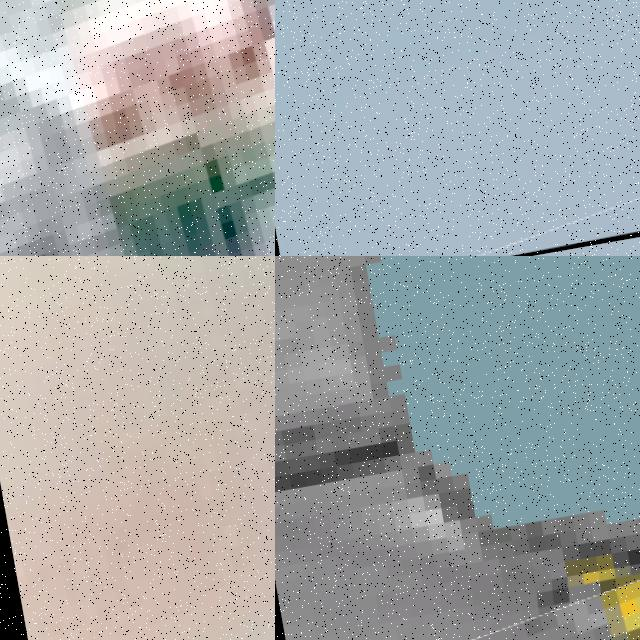drone: (0, 256, 275, 640), (275, 0, 640, 256), (0, 0, 275, 256), (284, 519, 640, 640)
